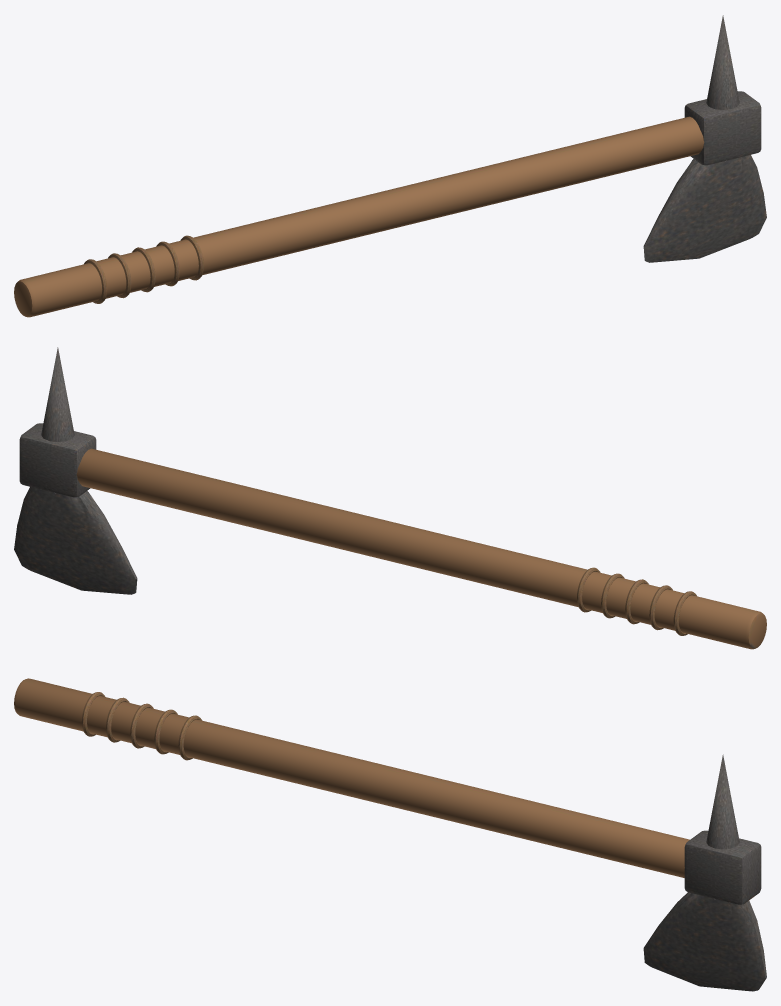
The model's file is boardingaxe.glb.
The picture shows the model from 3 angles, top to bottom: view 1: azimuth 30°, elevation 25°; view 2: azimuth 150°, elevation 25°; view 3: azimuth 330°, elevation 25°; orthographic projection.
Parts seen in each view (by area): view 1: haft; view 2: haft; view 3: haft.
Boxes of the visible parts, bbox=[...] form: haft: bbox=[14, 15, 766, 317]; haft: bbox=[14, 347, 766, 649]; haft: bbox=[14, 678, 766, 991].
Size of the model in its own units: 0.6162 by 0.1885 by 0.033.
Materials: 1 (1 with a texture image).
